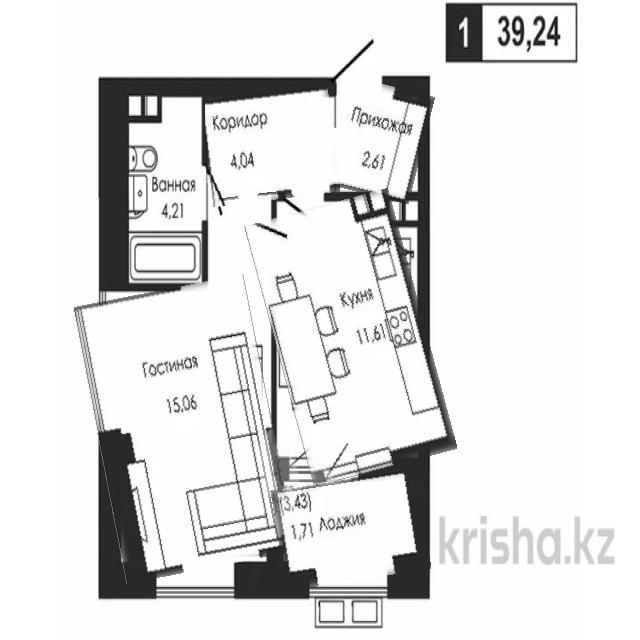balcony: (273, 473, 428, 586)
bathroom: (116, 87, 205, 286)
hallway: (200, 81, 337, 204), (331, 81, 429, 200)
kitchen: (260, 195, 441, 480)
living_room: (86, 282, 284, 578)
